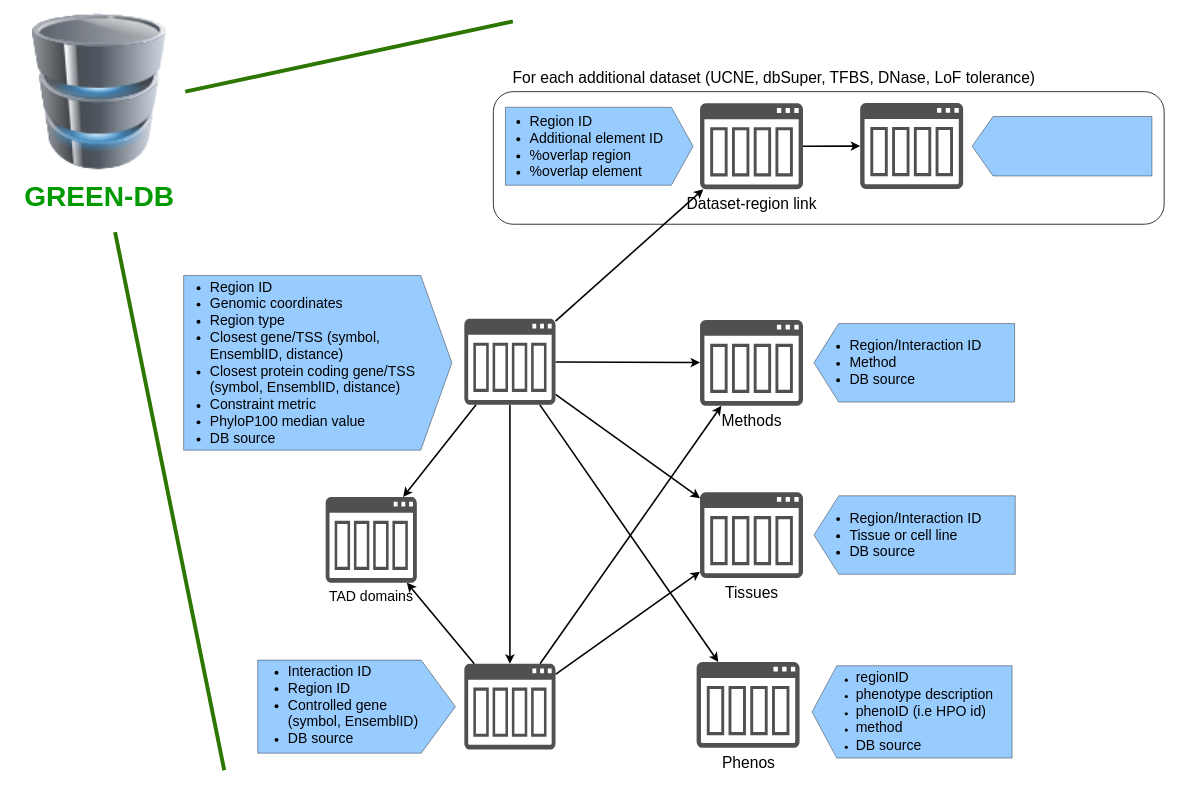
The diagram is 1178 pixels wide and 786 high, and some of its shapes have lost their labels. The shapes that lost their labels are listed below. From the top down, each one's box as (x1, y1, x2, y2) in pixels, then its label:
(860, 103, 963, 189): Additional dataset
(971, 116, 1152, 176): Element ID Genomic coordinates Tissue / cell line
(464, 318, 555, 404): Regions
(464, 663, 555, 749): Genes
